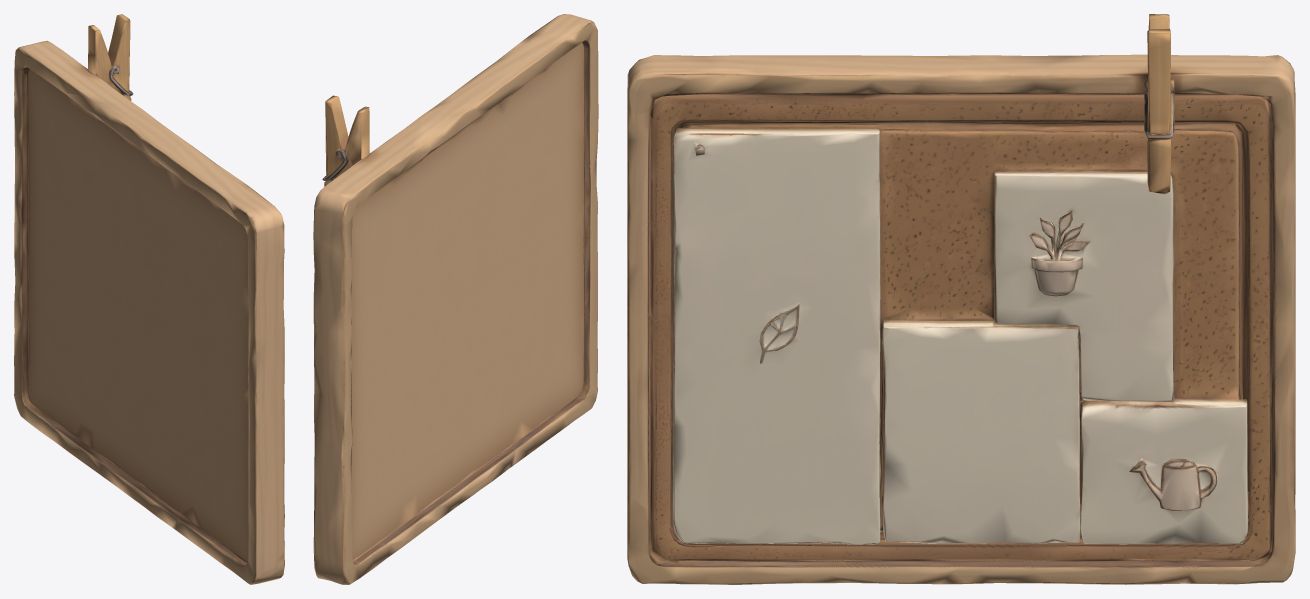
File: raw_order_board.glb
The picture shows the model from 3 angles, left to right: view 1: azimuth 30°, elevation 25°; view 2: azimuth 150°, elevation 25°; view 3: azimuth 270°, elevation 25°; orthographic projection. The views are drawn at different scales.
Visible parts, largest first — view 1: tripo_node_0490e747-3cf8-4c6c-a0ed-cfa1d6ec6755; view 2: tripo_node_0490e747-3cf8-4c6c-a0ed-cfa1d6ec6755; view 3: tripo_node_0490e747-3cf8-4c6c-a0ed-cfa1d6ec6755.
Part boxes in pixels (x1,y1,x2,y2): tripo_node_0490e747-3cf8-4c6c-a0ed-cfa1d6ec6755: (14,14,284,584); tripo_node_0490e747-3cf8-4c6c-a0ed-cfa1d6ec6755: (313,14,598,584); tripo_node_0490e747-3cf8-4c6c-a0ed-cfa1d6ec6755: (627,14,1295,584).
Bounding box in the file's own units: 0.1608 × 0.9491 × 1.
1 material, 1 textured.
